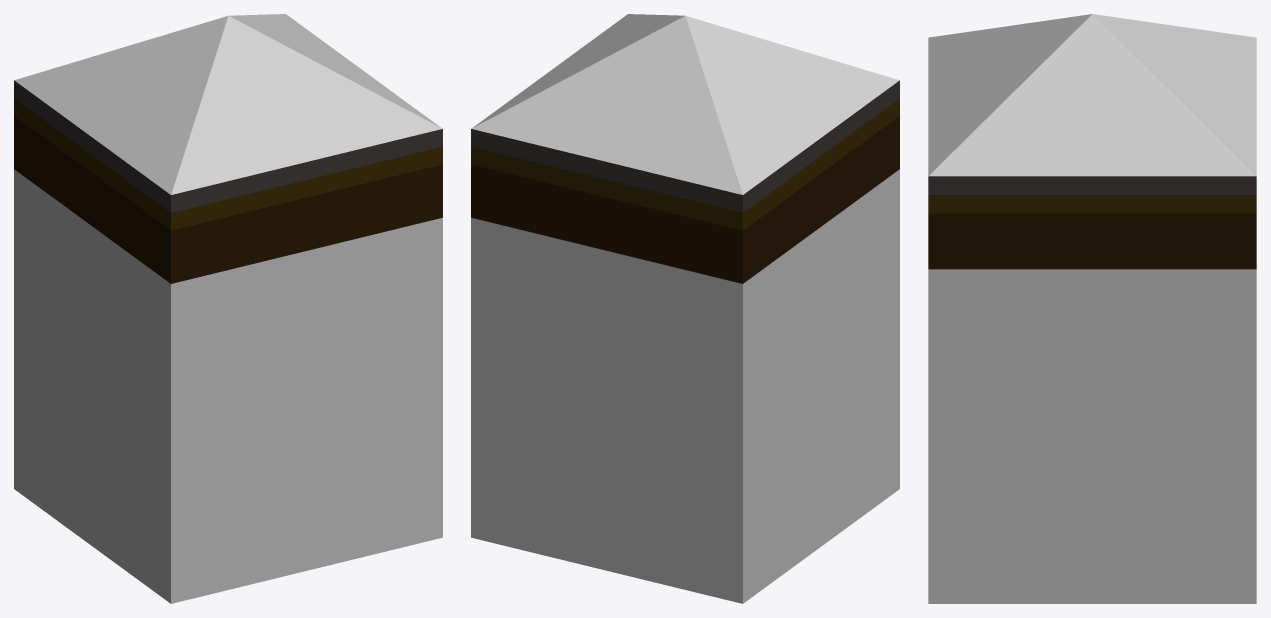
The model's file is model_loc_1665_h.obj.
3 views of the same model, side by side, from view 1: azimuth 30°, elevation 25°; view 2: azimuth 150°, elevation 25°; view 3: azimuth 270°, elevation 25° (orthographic). The views are drawn at different scales.
Parts seen in each view (by area): view 1: 955; view 2: 955; view 3: 955.
Part boxes in pixels (x1=…): 955: x1=14, y1=14, x2=442, y2=603; 955: x1=471, y1=14, x2=899, y2=603; 955: x1=928, y1=14, x2=1256, y2=603.
Bounding box in the file's own units: 128 × 224 × 128.
